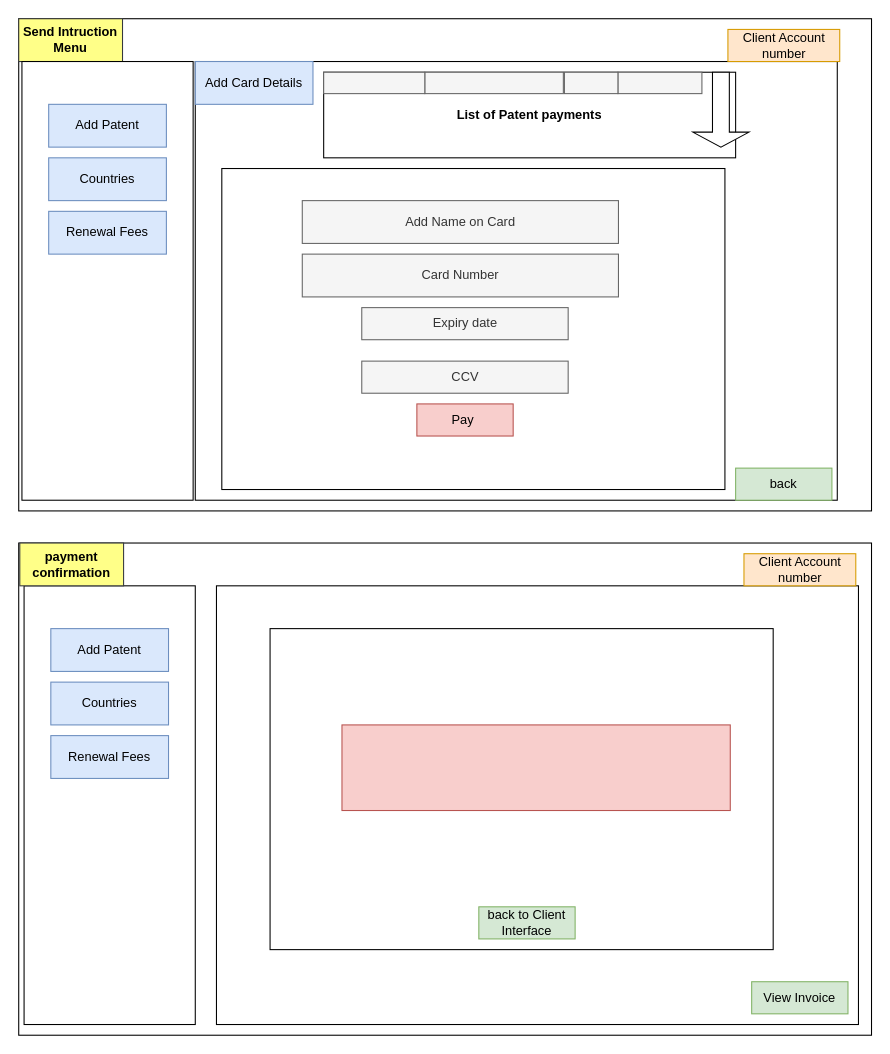
Some shapes in this 890 by 1054 pixel diagram are drawn without their labels. Here are the shapes that lost their labels. From the top down, the centre of each, then its label:
pixel 374 82: Country RO flag
pixel 493 82: Patent No./271852
pixel 590 82: Type code
pixel 659 82: Annuity
pixel 720 109: scroll down
pixel 535 767: Payment Instruction Sent !
